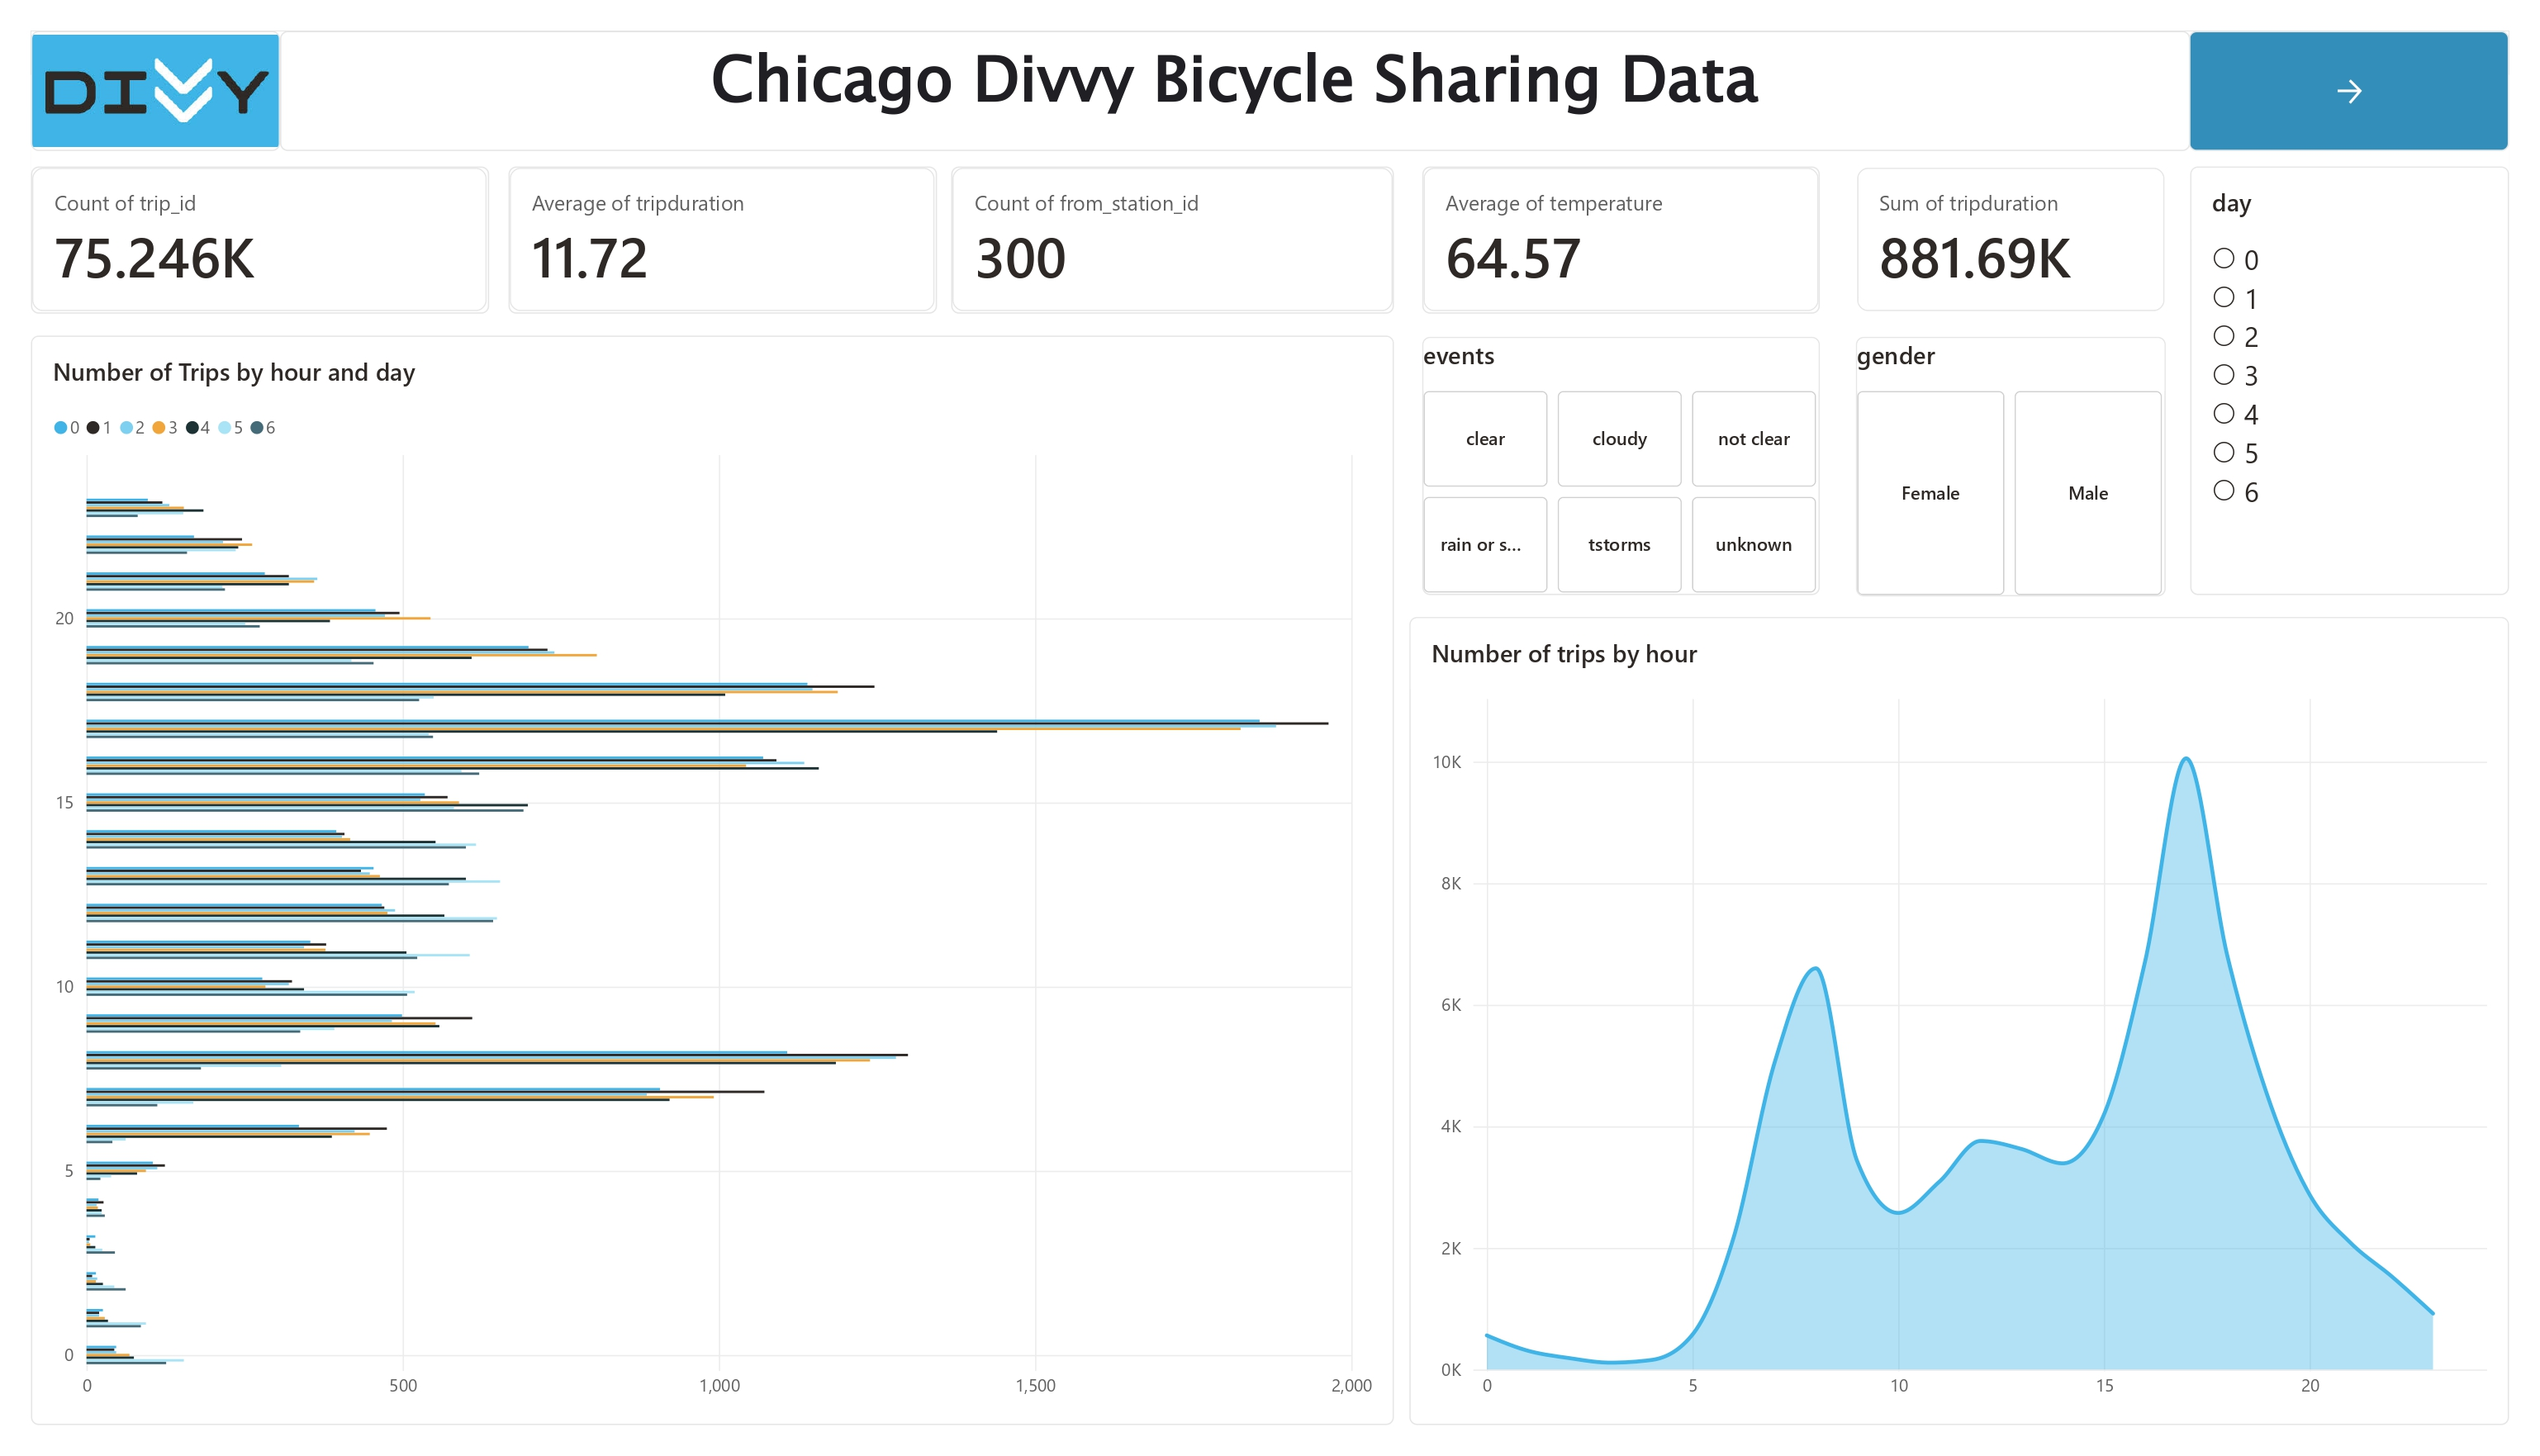

The page's visual inventory and layout, read from the dashboard file:
{"tool":"powerbi","page":{"name":"Page 1","canvas":[1920,1080],"ordinal":0},"visuals":[{"type":"cardVisual","fields":{"Data":["CountNonNull(data.trip_id)"]},"box":[0,105,354.5,113.8],"z":0},{"type":"clusteredBarChart","title":"Number of Trips by hour and day","fields":{"Category":["data.hour"],"Y":["CountNonNull(data.trip_id)"],"Series":["data.day"]},"box":[0,236.4,1056.3,843.3],"z":1000},{"type":"stackedAreaChart","title":"Number of trips by hour","fields":{"Category":["data.hour"],"Y":["CountNonNull(data.trip_id)"]},"box":[1068,453.7,852,625.9],"z":2000},{"type":"cardVisual","fields":{"Data":["Count(data.from_station_id)"]},"box":[712.6,105.5,343.4,113.6],"z":3000},{"type":"cardVisual","fields":{"Data":["Avg(data.tripduration)"]},"box":[370.5,105.5,331.3,113.6],"z":4000},{"type":"advancedSlicerVisual","fields":{"Values":["data.gender"]},"box":[1414.3,236.6,239.3,201.5],"z":5000},{"type":"listSlicer","fields":{"Values":["data.day"]},"box":[1672.6,105.5,247.4,331.3],"z":6000},{"type":"actionButton","box":[1672,0,248,93.4],"z":7000},{"type":"textbox","box":[193.4,0,1479.2,93.3],"z":8000},{"type":"advancedSlicerVisual","fields":{"Values":["data.events"]},"box":[1077.6,236.6,308.3,200.1],"z":9000},{"type":"cardVisual","fields":{"Data":["Avg(data.temperature)"]},"box":[1077.6,105.5,308.3,113.6],"z":10000},{"type":"cardVisual","fields":{"Data":["Sum(data.tripduration)"]},"box":[1414.3,105.5,240.7,113.6],"z":11000},{"type":"image","box":[0,0,193.4,93.3],"z":12000}]}

Visuals, with their boxes on the page's 1920x1080 design canvas (x1, y1, x2, y2). These are canvas units, not pixel positions in the 2540x1456 screenshot, which may show the page scaled, cropped or inside an application window:
cardVisual - CountNonNull(data.trip_id): x1=0 y1=105 x2=354 y2=219
"Number of Trips by hour and day" clusteredBarChart: x1=0 y1=236 x2=1056 y2=1080
"Number of trips by hour" stackedAreaChart: x1=1068 y1=454 x2=1920 y2=1080
cardVisual - Count(data.from_station_id): x1=713 y1=106 x2=1056 y2=219
cardVisual - Avg(data.tripduration): x1=370 y1=106 x2=702 y2=219
advancedSlicerVisual - data.gender: x1=1414 y1=237 x2=1654 y2=438
listSlicer - data.day: x1=1673 y1=106 x2=1920 y2=437
actionButton: x1=1672 y1=0 x2=1920 y2=93
textbox: x1=193 y1=0 x2=1673 y2=93
advancedSlicerVisual - data.events: x1=1078 y1=237 x2=1386 y2=437
cardVisual - Avg(data.temperature): x1=1078 y1=106 x2=1386 y2=219
cardVisual - Sum(data.tripduration): x1=1414 y1=106 x2=1655 y2=219
image: x1=0 y1=0 x2=193 y2=93
